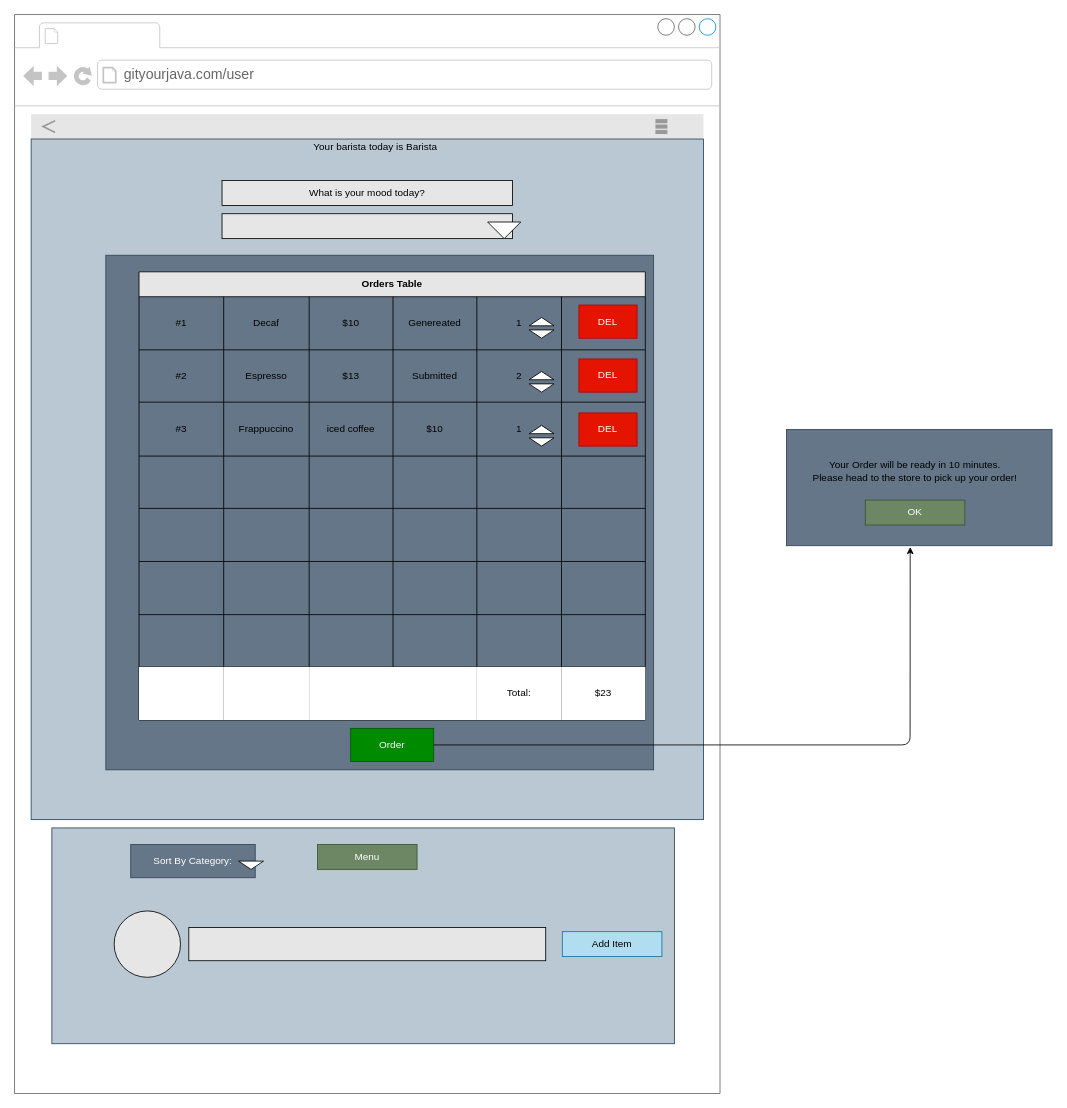
Image size: 1067x1108. Some labels were removed from this diagram. Here are the shapes that lost their labels. From the top down, the box of each, then its label:
(63, 24, 156, 46): Customer Page
(30, 113, 704, 139): Welcome, user!
(221, 213, 513, 239): (sleepy)
(113, 910, 181, 977): (picture of item)
(188, 927, 546, 961): (item details)
